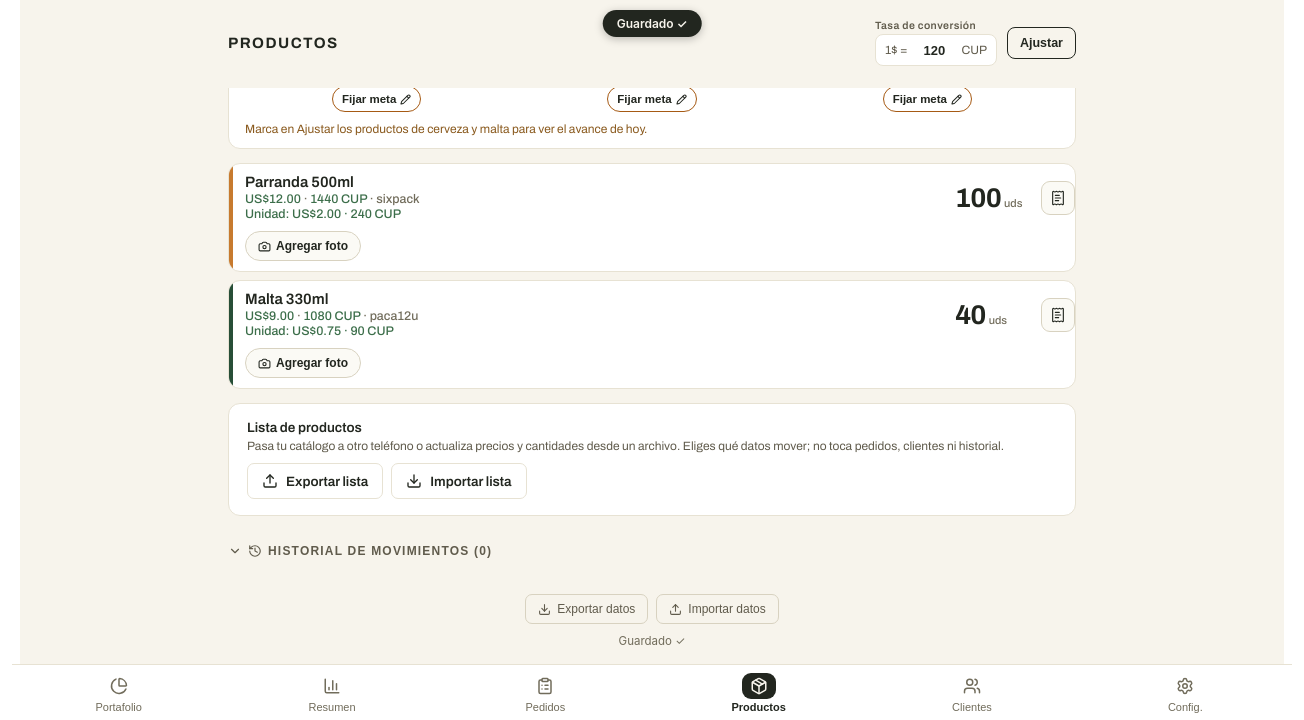
Lista de productos: exportar › comparte un archivo con los datos marcados (sin los productos archivados)
(page scrolled)
Click the button "Exportar lista".
click(315, 481)  # box [247,463,383,499]
(page scrolled)
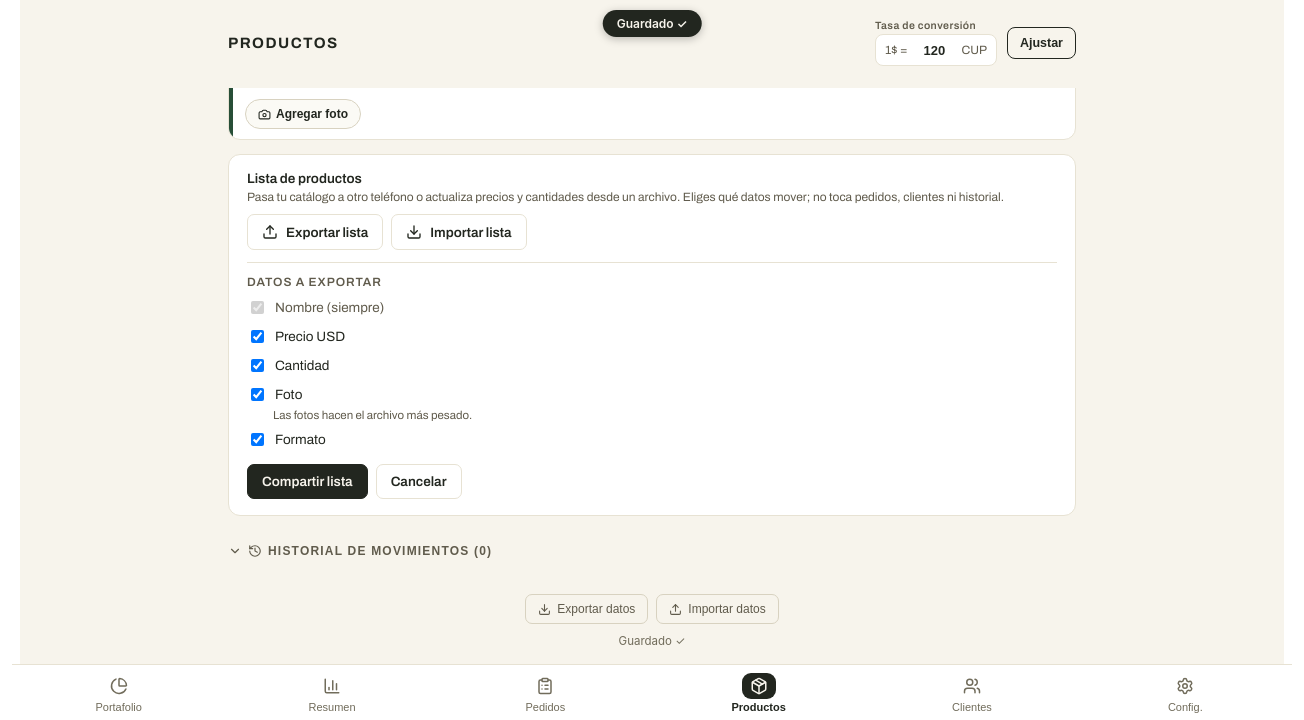
Click the button "Compartir lista".
click(307, 482)  # box [247,464,368,499]
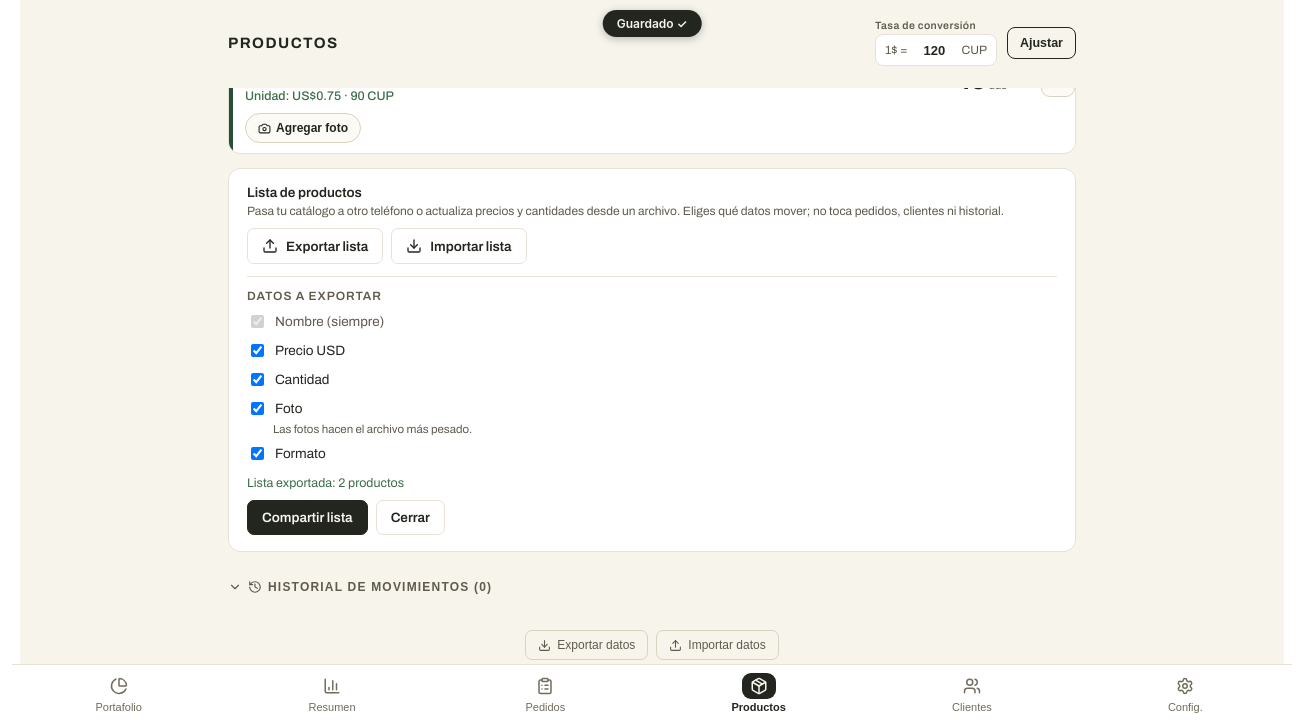
Now the text "Lista exportada: 2 productos" is shown, box [247,476,404,490]
